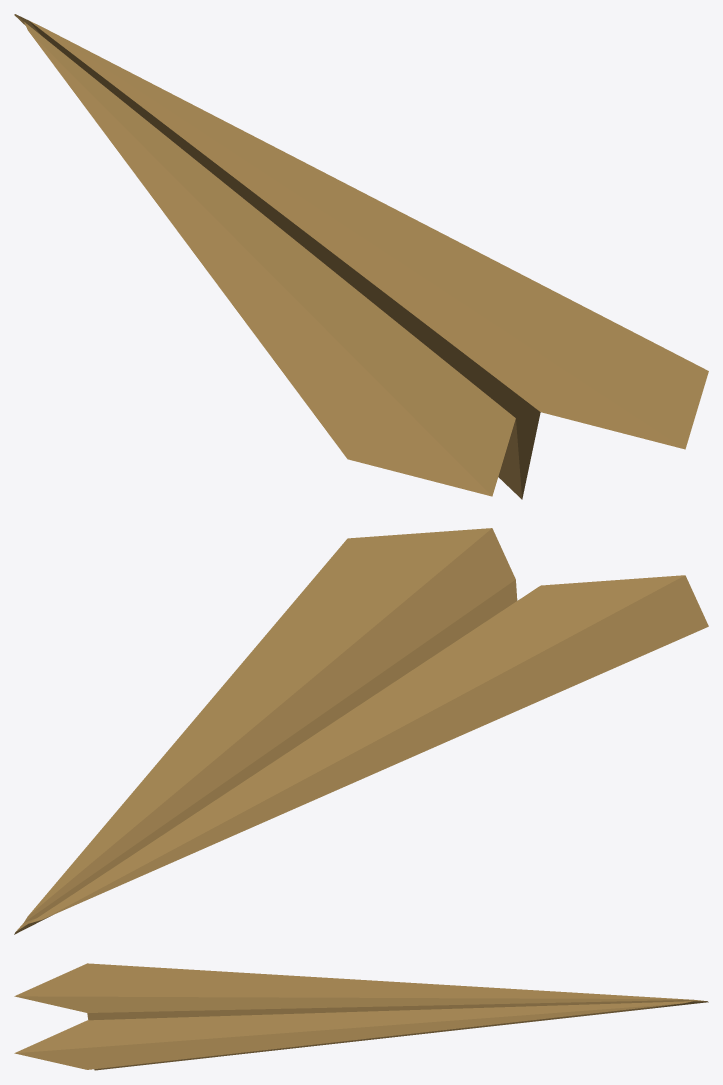
File: paper_plane.gltf
3 views of the same model, one above another, from view 1: azimuth 30°, elevation 25°; view 2: azimuth 150°, elevation 25°; view 3: azimuth 270°, elevation 25° (orthographic). The views are drawn at different scales.
Visible parts, largest first — view 1: Object_2; view 2: Object_2; view 3: Object_2.
Part boxes in pixels (x1,y1,x2,y2): Object_2: (14, 14, 708, 499); Object_2: (14, 528, 708, 934); Object_2: (14, 963, 708, 1070).
Size of the model in its own units: 0.907 by 0.2781 by 2.5.
